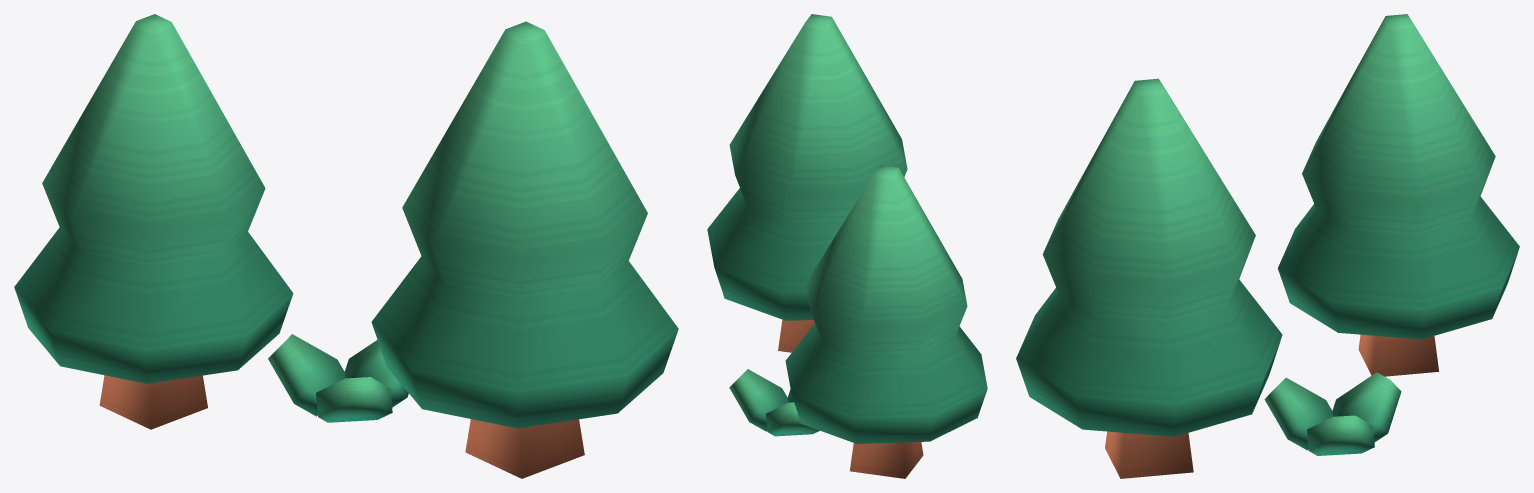
The model's file is tree_pine_b.glb.
The picture shows the model from 3 angles, left to right: view 1: azimuth 30°, elevation 25°; view 2: azimuth 150°, elevation 25°; view 3: azimuth 270°, elevation 25°; orthographic projection. The views are drawn at different scales.
Parts seen in each view (by area): view 1: tree_pine__Mesh_002; view 2: tree_pine__Mesh_002; view 3: tree_pine__Mesh_002.
Boxes of the visible parts, <box> form: tree_pine__Mesh_002: <box>14,14,678,478</box>; tree_pine__Mesh_002: <box>707,14,987,478</box>; tree_pine__Mesh_002: <box>1016,14,1519,478</box>.
Size of the model in its own units: 2.25 by 1.98 by 2.31.
1 material, 1 textured.
